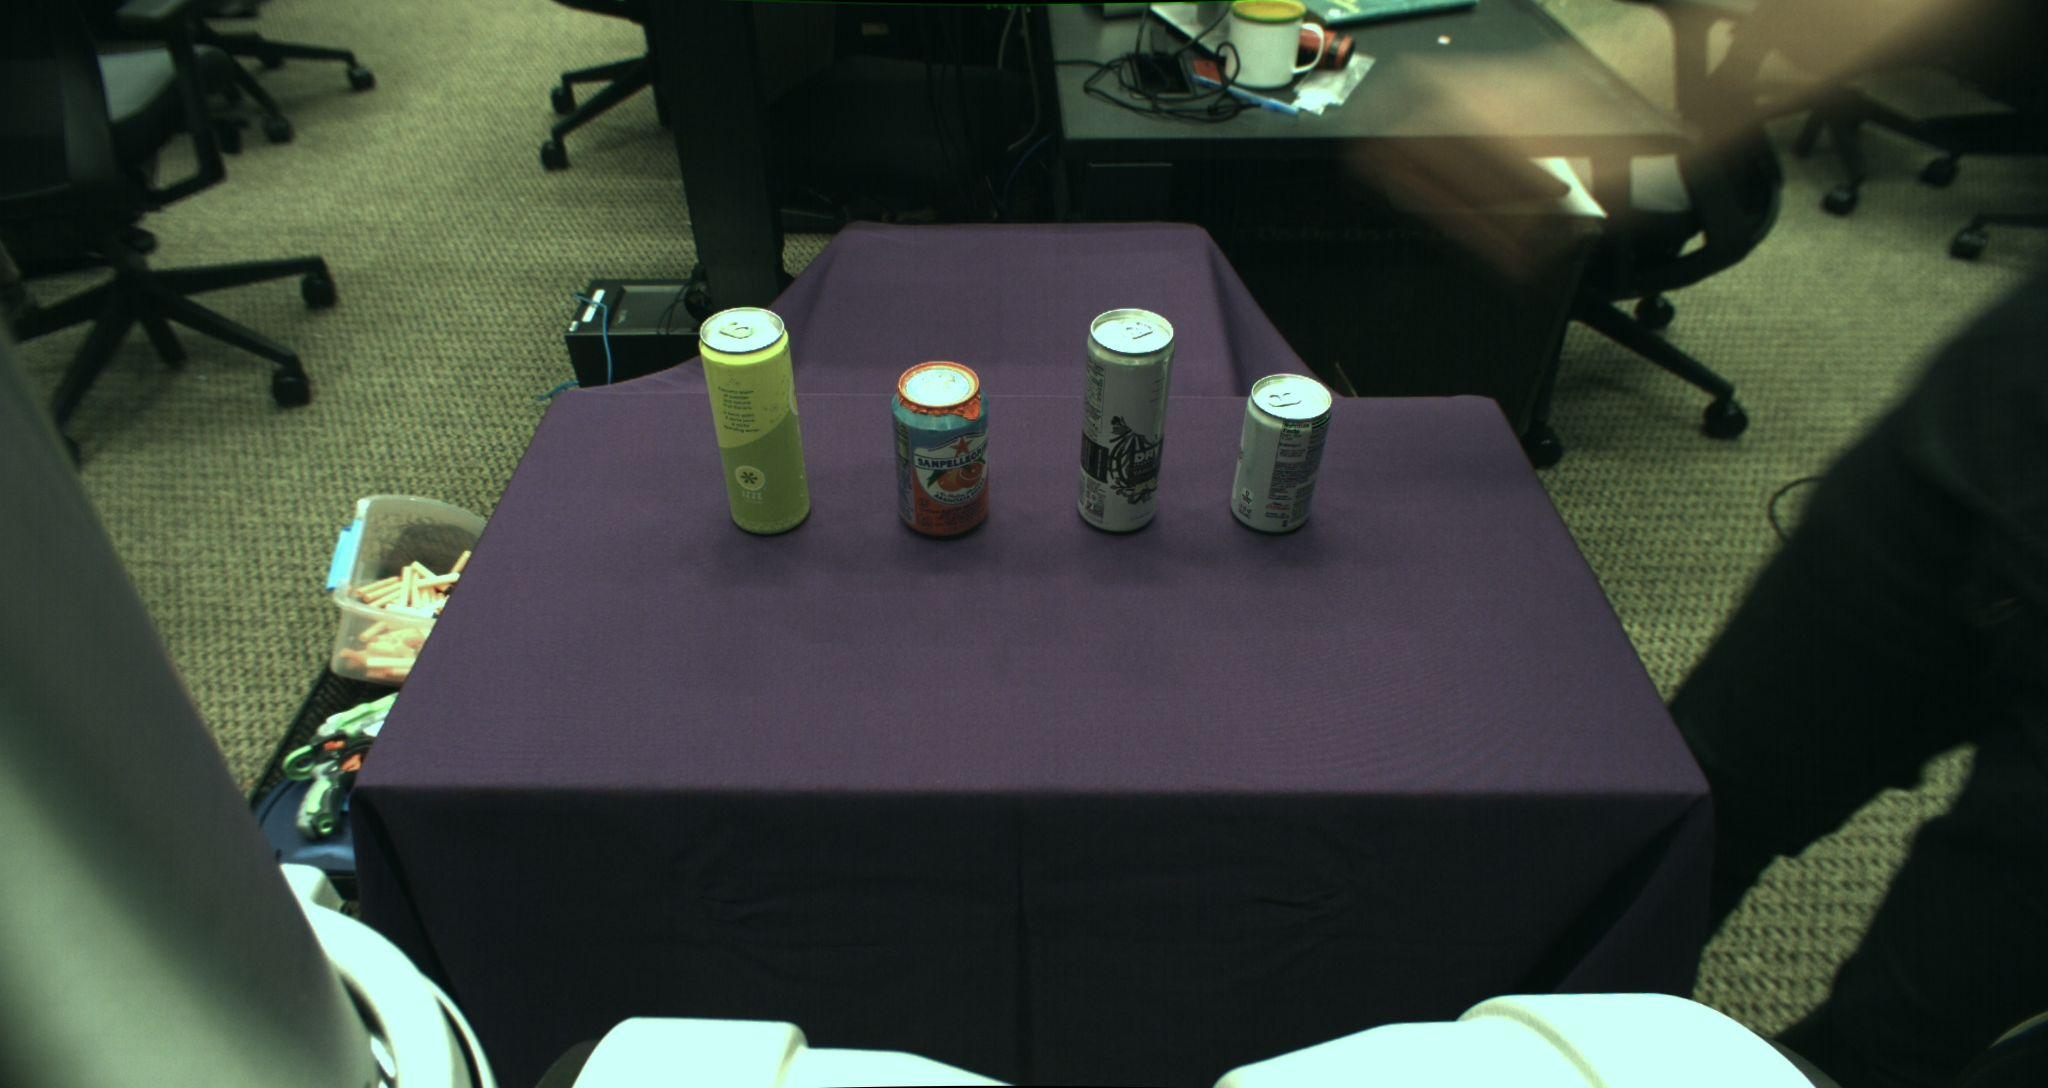can_diet_coke_small: (1230, 373, 1331, 534)
can_dry_sparkling_vanilla_bean: (1075, 308, 1174, 534)
can_izze_fusions_lemon_lime: (698, 306, 811, 537)
can_sanpellegrino_blood_orange: (891, 359, 990, 538)
